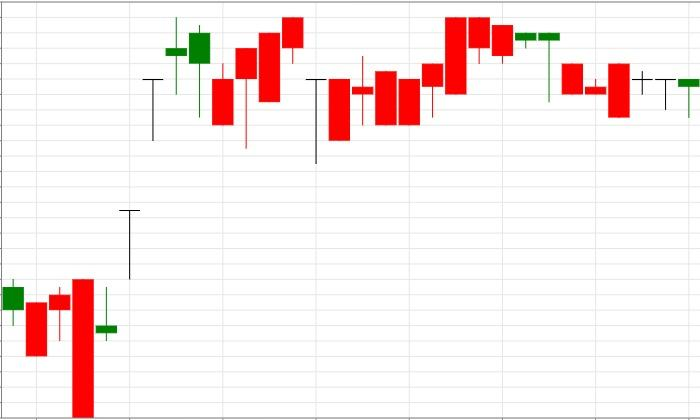hanging_man_fall: (71, 16, 209, 418)
